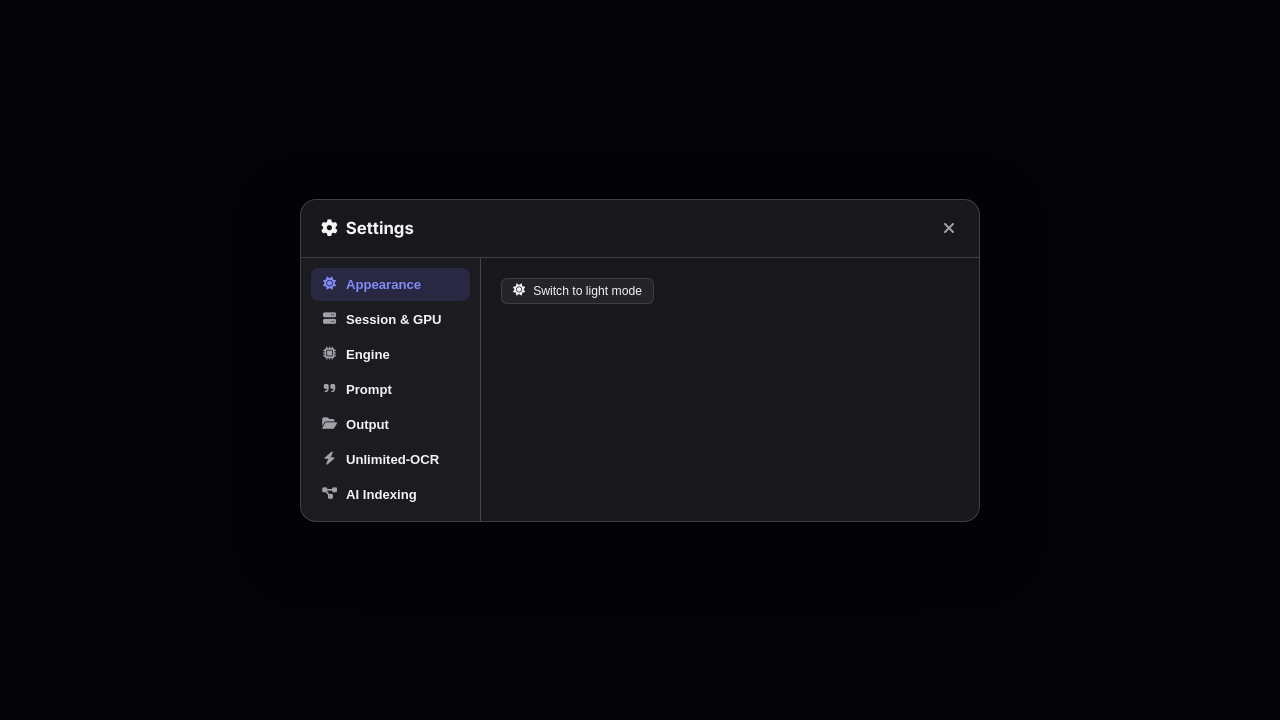
Test case: SettingsModal — idle/GPU status › renders "GPU: Offline" when the GPU service connection is unreachable
Click the button with test id "settings-nav-session": (390, 319) [311,302,470,336]
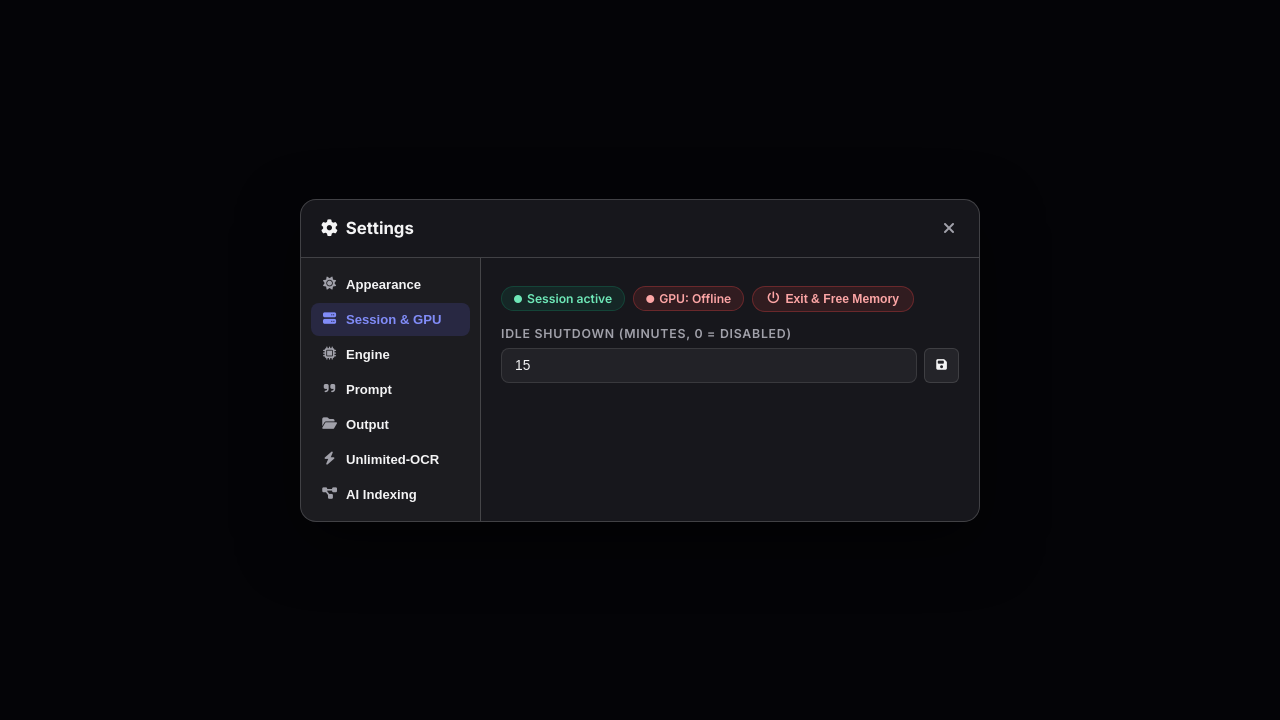
Result: the element with test id "gpu-status-pill" reads "GPU: Offline" at [659,291,731,306]
